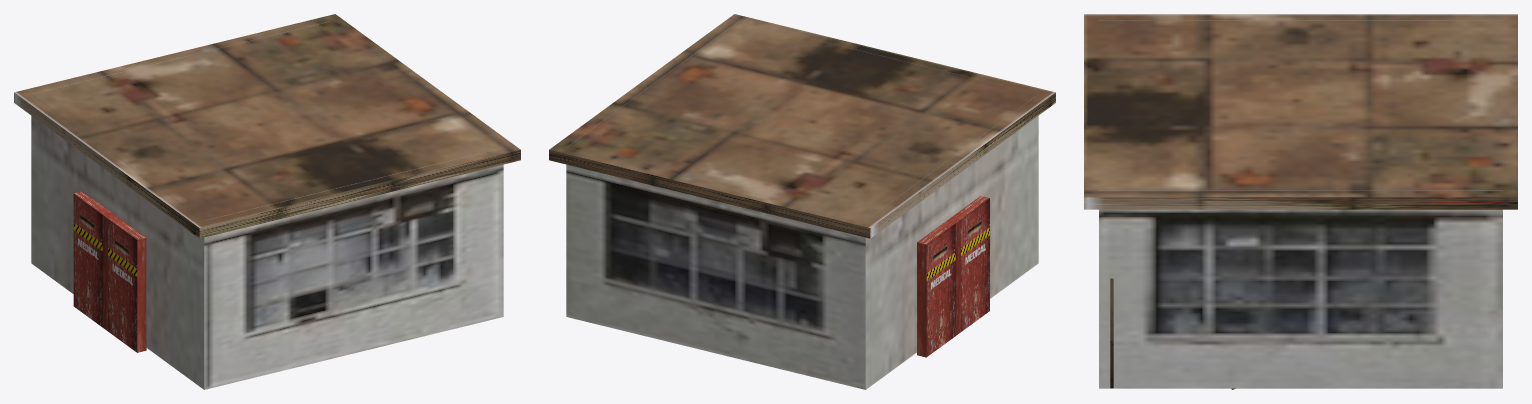
File: MedRoom_S.fbx
3 views of the same model, side by side, from view 1: azimuth 30°, elevation 25°; view 2: azimuth 150°, elevation 25°; view 3: azimuth 270°, elevation 25° (orthographic). The views are drawn at different scales.
Parts seen in each view (by area): view 1: Building, Cube, Door; view 2: Building, Cube, Door; view 3: Cube, Building, Lockers.
Boxes of the visible parts, x1,y1,x2,y2 form: Building: (31, 21, 503, 389); Cube: (14, 14, 520, 238); Door: (73, 191, 146, 352); Building: (566, 21, 1038, 389); Cube: (549, 14, 1055, 238); Door: (917, 196, 989, 357); Cube: (1084, 14, 1517, 209); Building: (1099, 20, 1502, 388); Lockers: (1110, 278, 1235, 389).
Bounding box in the file's own units: 1476 × 756 × 1476.
6 materials, 6 textured.
